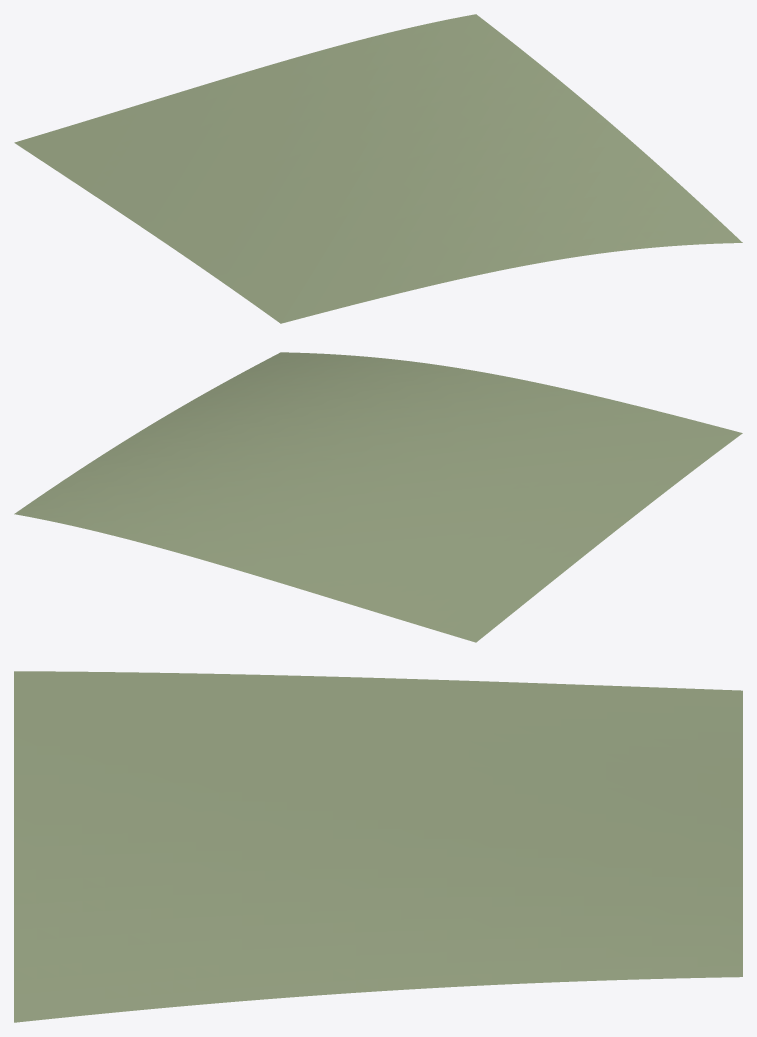
Rendered from expanse-4-27.glb.
3 renders of one model, top to bottom at view 1: azimuth 30°, elevation 25°; view 2: azimuth 150°, elevation 25°; view 3: azimuth 270°, elevation 25°, orthographic. The views are drawn at different scales.
Parts seen in each view (by area): view 1: expanse-4-27; view 2: expanse-4-27; view 3: expanse-4-27.
Boxes of the visible parts, bbox=[...] form: expanse-4-27: bbox=[14, 14, 742, 323]; expanse-4-27: bbox=[14, 352, 742, 642]; expanse-4-27: bbox=[14, 671, 742, 1022].
Bounding box in the file's own units: 256 × 19.28 × 256.
